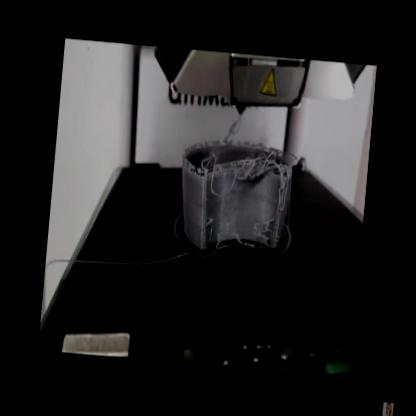fail: (203, 144, 286, 202), (217, 214, 278, 258)
